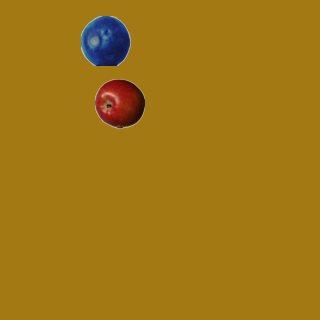Apple Braeburn: (94, 78, 144, 128)
Huckleberry: (80, 15, 130, 65)
